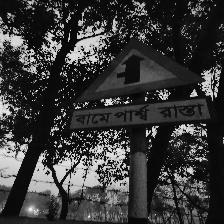Side-road-left: (68, 38, 211, 133)
